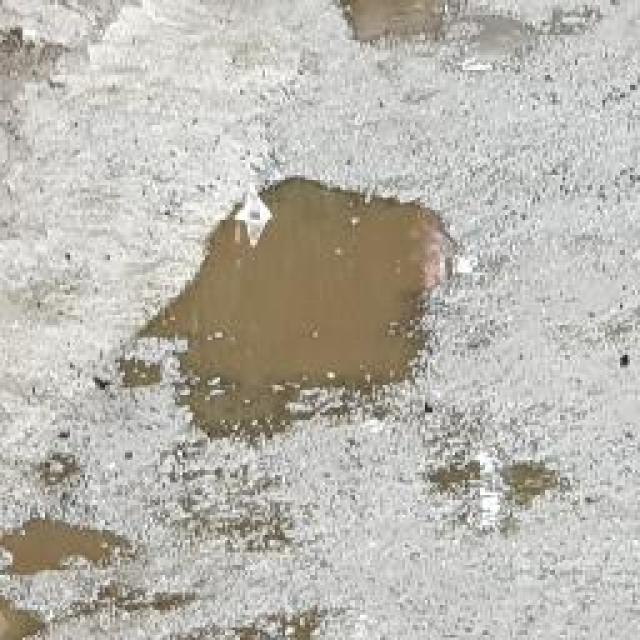waterlogging: (165, 167, 445, 430)
